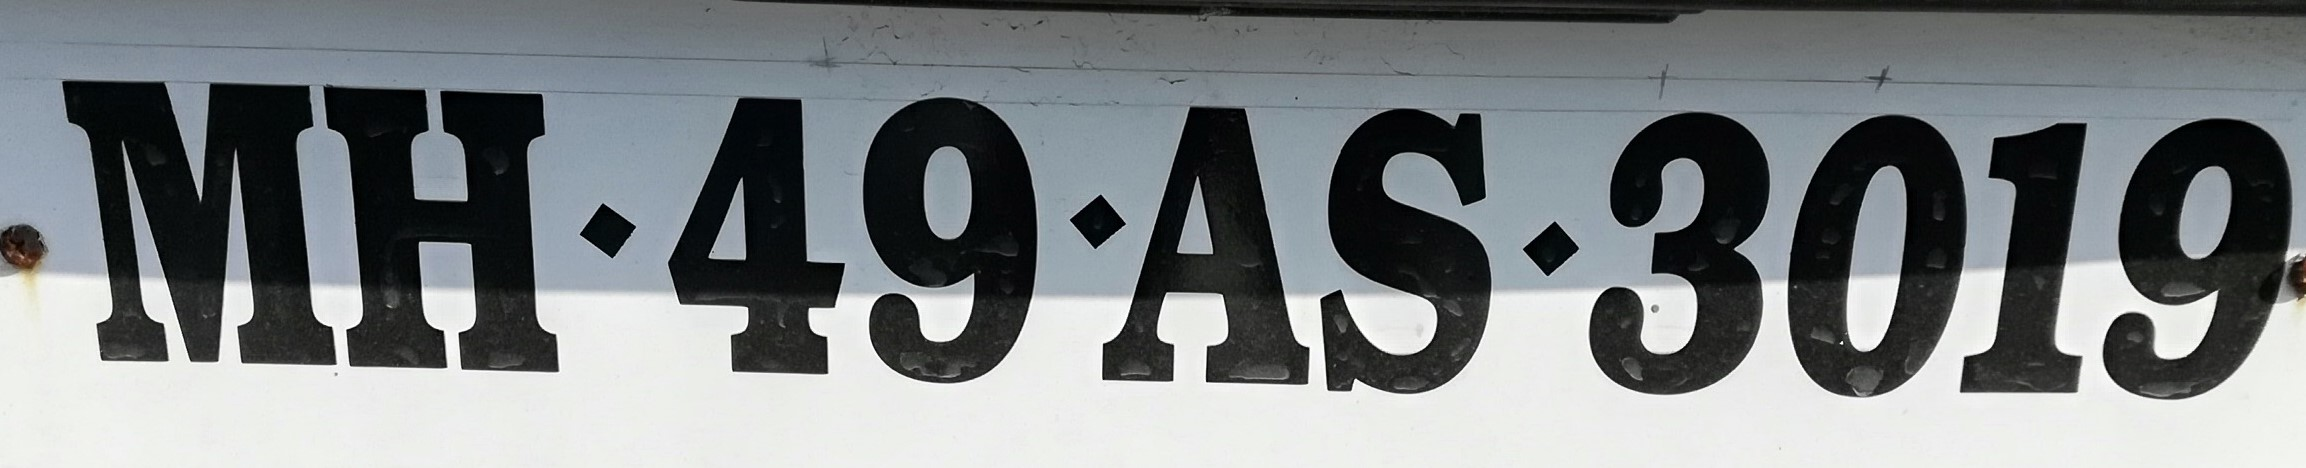numberplate: (17, 8, 2306, 463)
